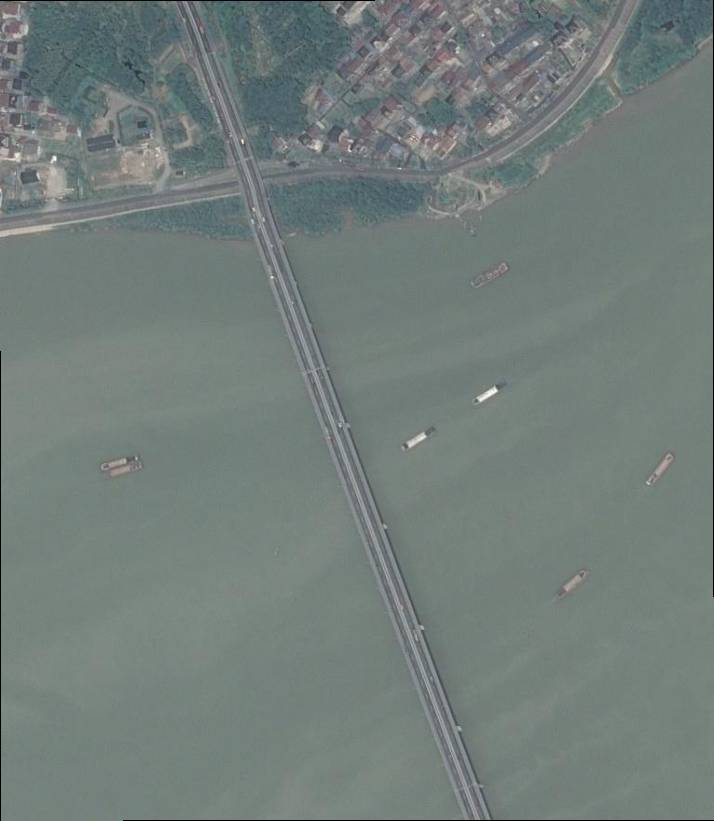bridge: (172, 0, 493, 820)
ship: (470, 262, 511, 290), (554, 570, 590, 601), (472, 379, 509, 407), (646, 453, 675, 487), (402, 426, 437, 451), (101, 452, 141, 472), (108, 461, 145, 478)
